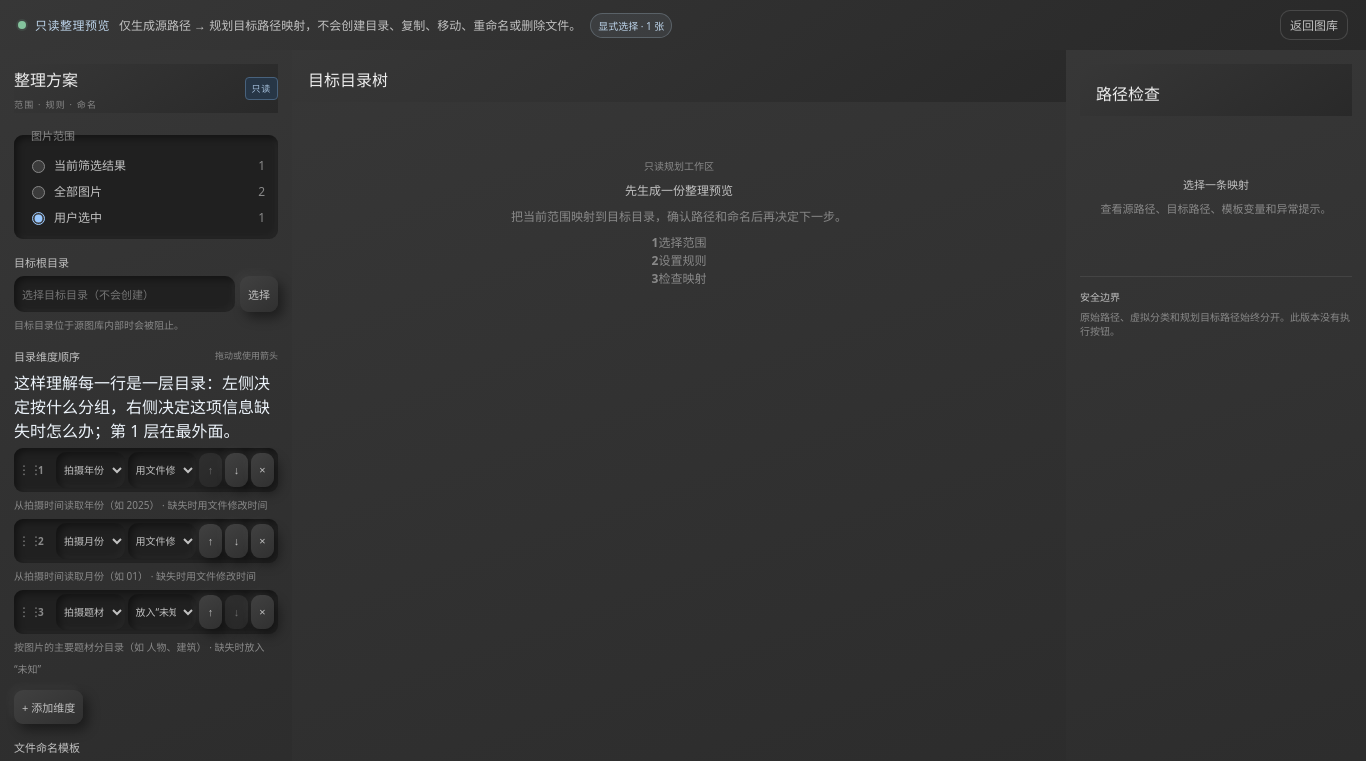
Test: OrganizationWorkspace › explains directory dimensions and limits modification-time fallback to date levels
Expected: the text "每一行是一层目录：左侧决定按什么分组，右侧决定这项信息缺失时怎么办；第 1 层在最外面。" is shown, 14,372 -> 270,442
Select "拍摄题材" in the dropdown named "第 1 层目录维度": (90, 470) 56,452 -> 124,488
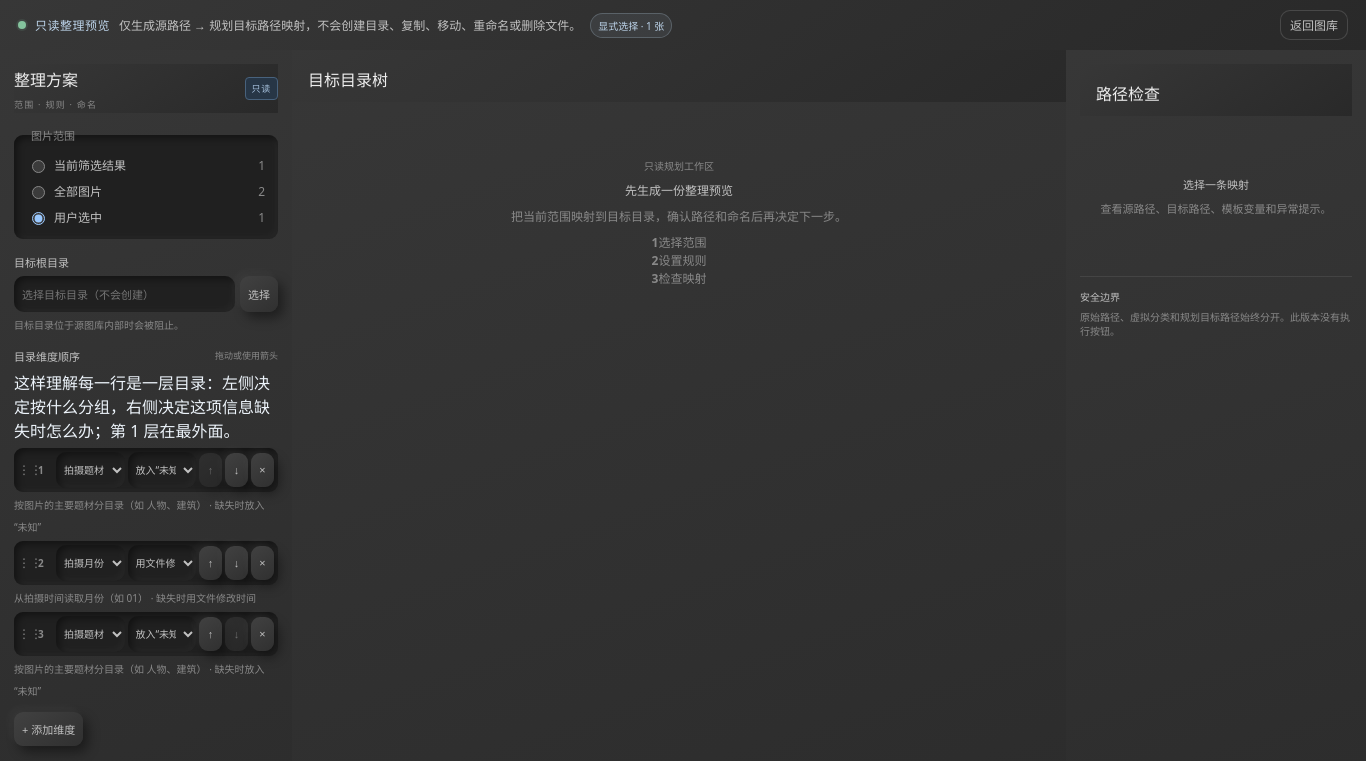
Expected: the 1st dropdown named "拍摄题材缺失时" shows "放入“未知”", 128,452 -> 196,488
Expected: the 1st text "按图片的主要题材分目录" is shown, 14,498 -> 124,512
